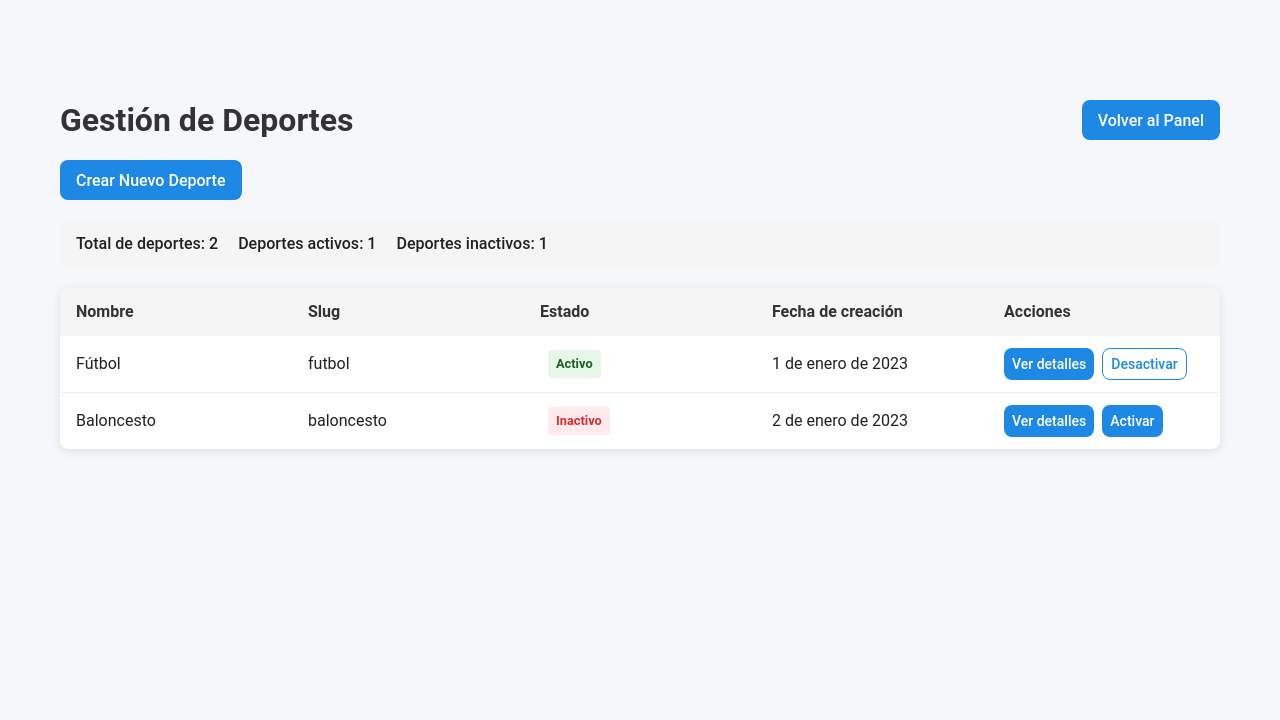
SportsList Component › creates a new sport when submitting the form
Note: Hacer clic en el botón de crear nuevo deporte
Click the button "Crear Nuevo Deporte".
click(151, 180)  # box left=60, top=160, right=242, bottom=200
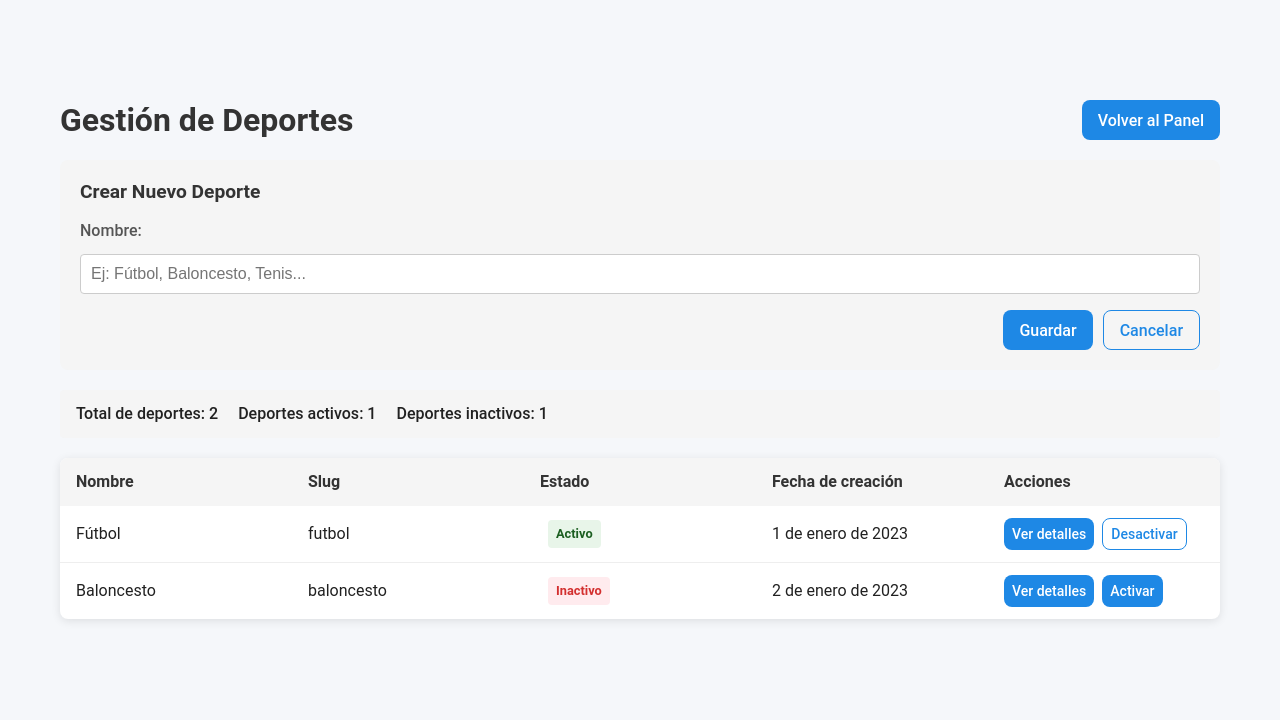
Note: Rellenar el formulario
Type "Tenis" into the field labelled "Nombre:".
click(640, 274); type("Tenis")  # box left=80, top=254, right=1200, bottom=294
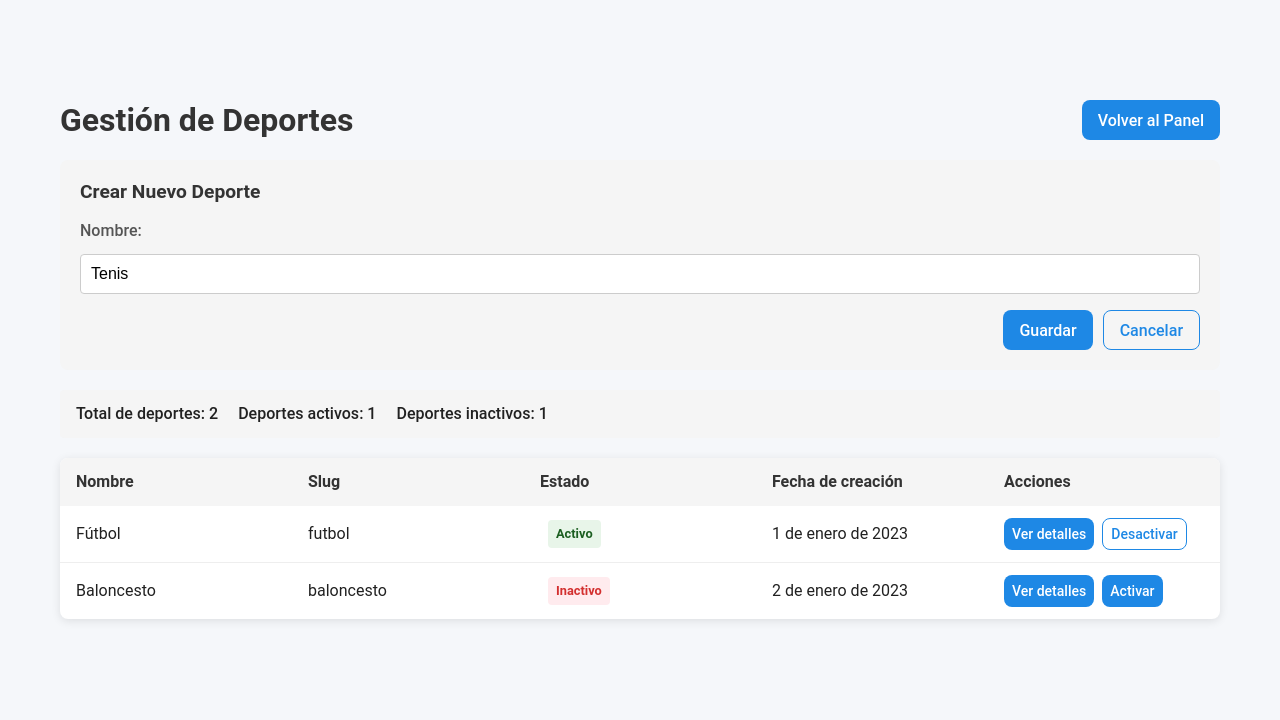
Note: Enviar el formulario
Click the button "Guardar".
click(1048, 330)  # box left=1003, top=310, right=1093, bottom=350
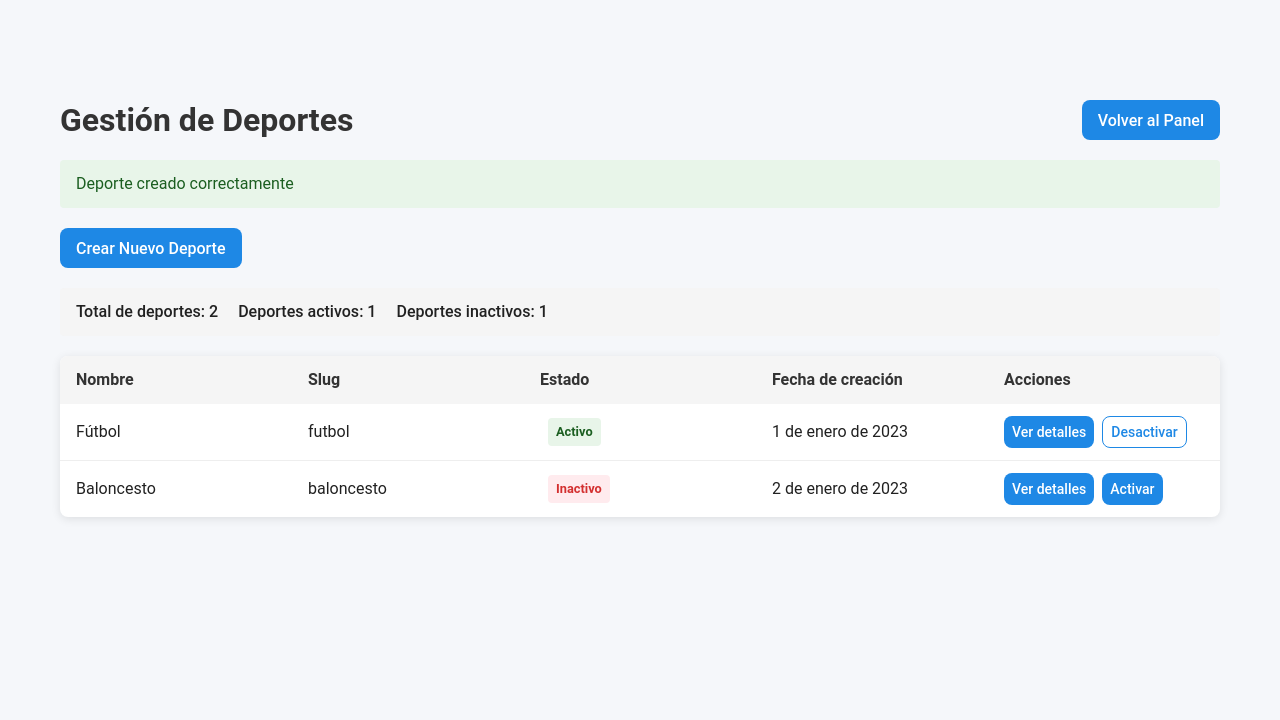
Result: the text "Deporte creado correctamente" is shown at left=76, top=174, right=294, bottom=193
